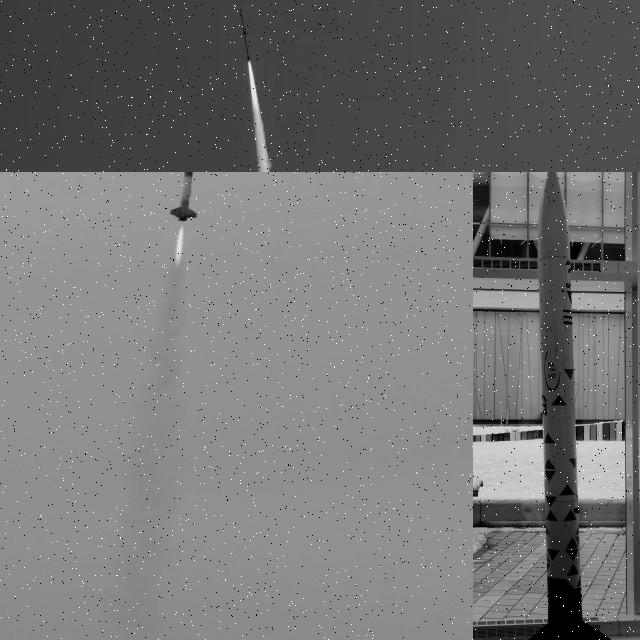Rocket: (529, 172, 611, 640), (169, 172, 198, 222), (240, 6, 251, 62)
